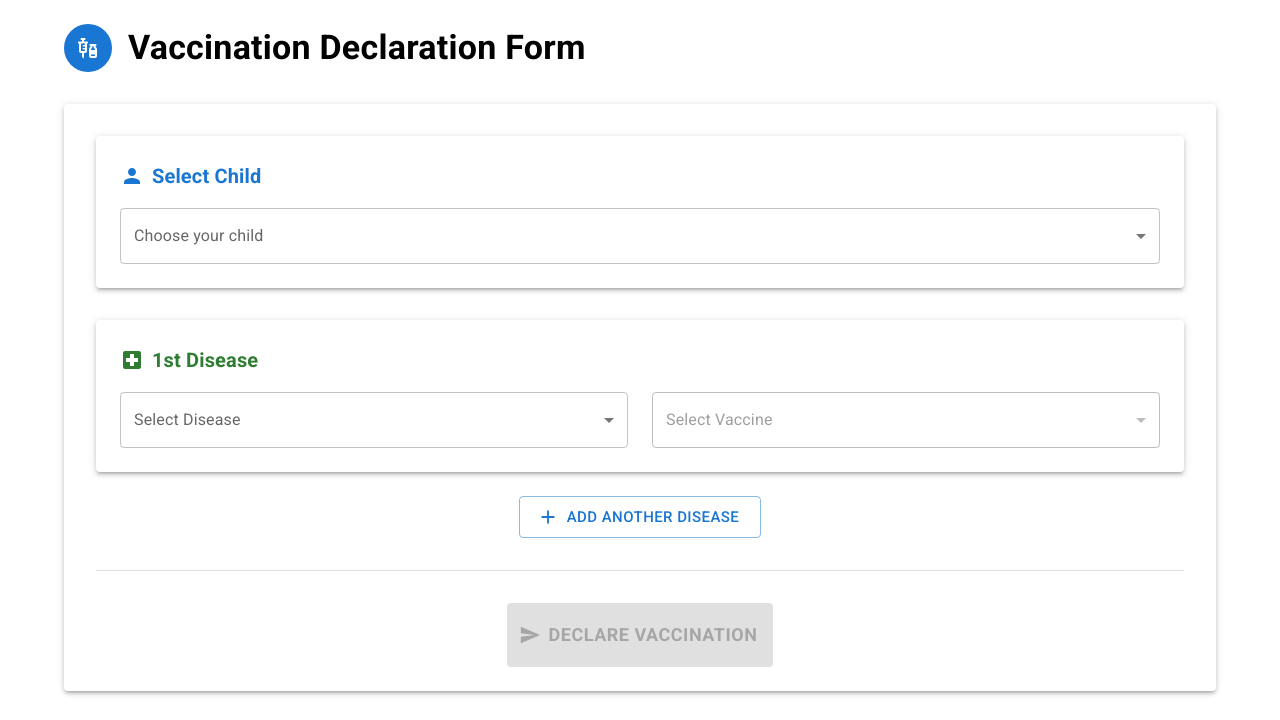
Scenario: VaccinationDeclarationContent - Comprehensive Tests › Disease Management › user can add and remove diseases
The image size is (1280, 720).
Expected: the heading "1st Disease" is shown, [152,344,258,376]
Note: Add another disease
Click the button "Add Another Disease": {"x": 640, "y": 517} [519,496,761,538]
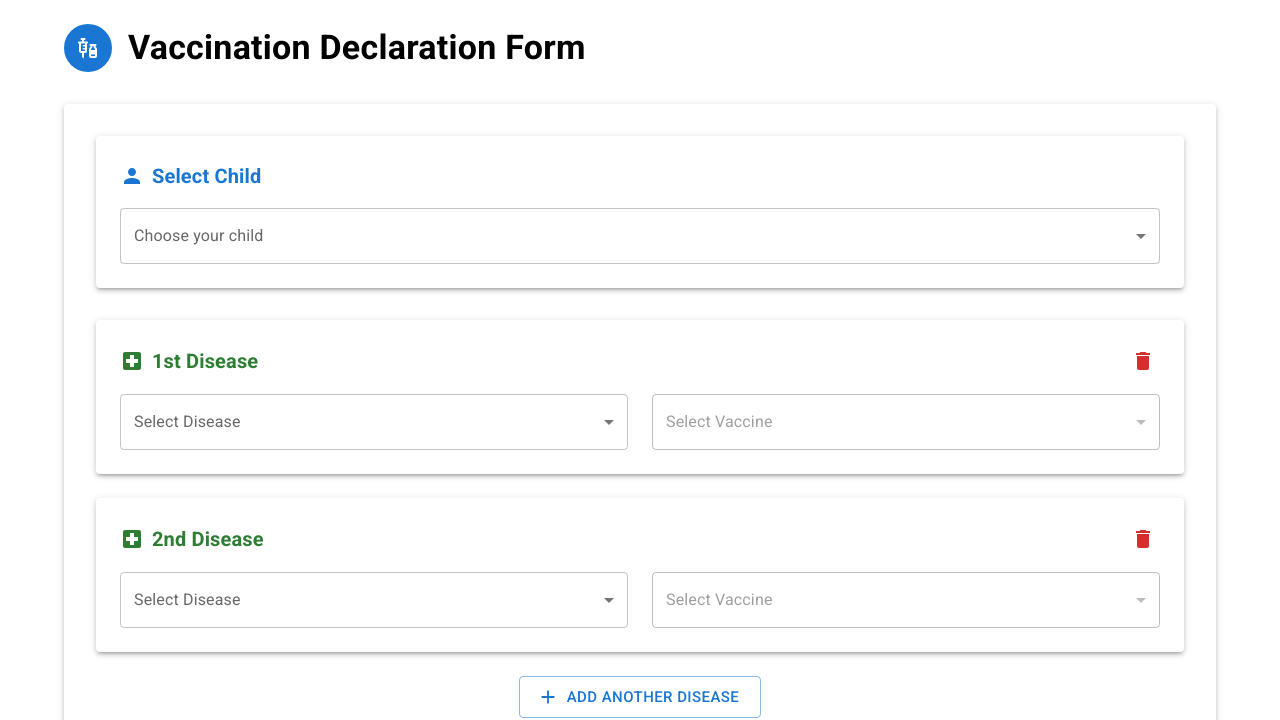
Now the heading "2nd Disease" is shown, box [152,523,264,555]
Note: Remove the second disease
Click the button with test id "DeleteIcon": {"x": 1143, "y": 361} [1126,344,1160,378]
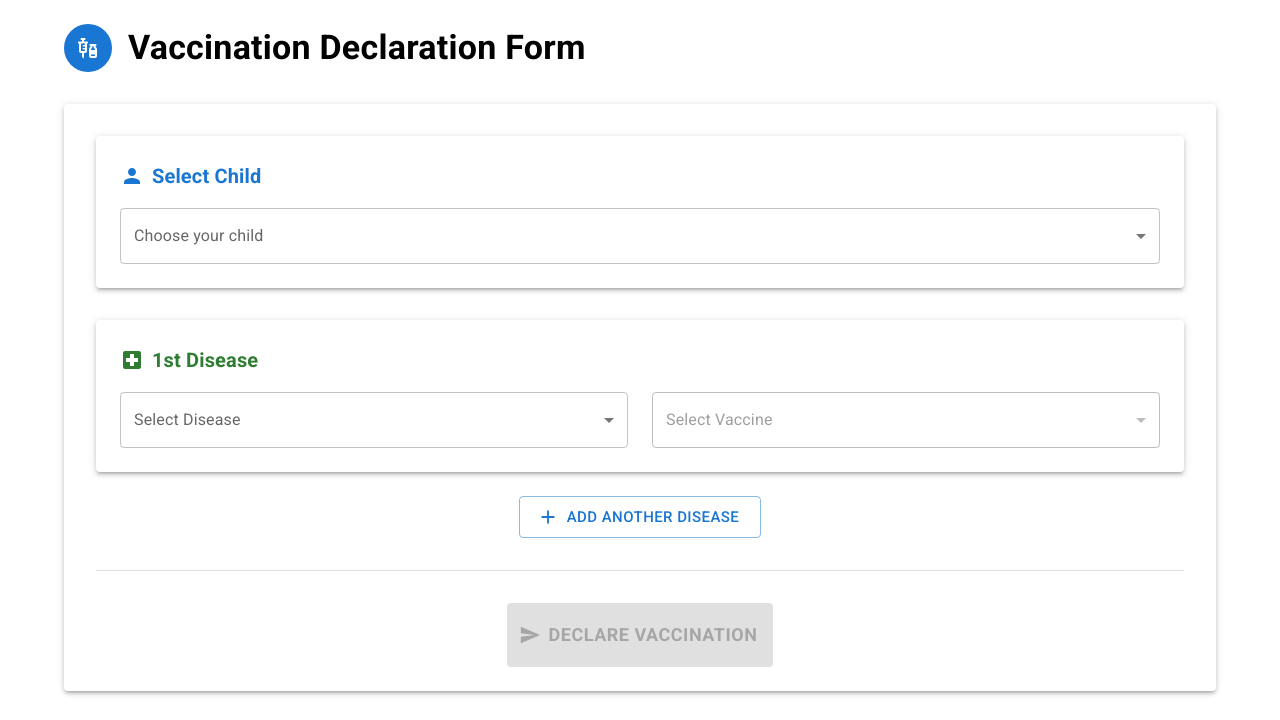
Now the heading "1st Disease" is shown, box [152,344,258,376]
Now the heading "2nd Disease" is gone
